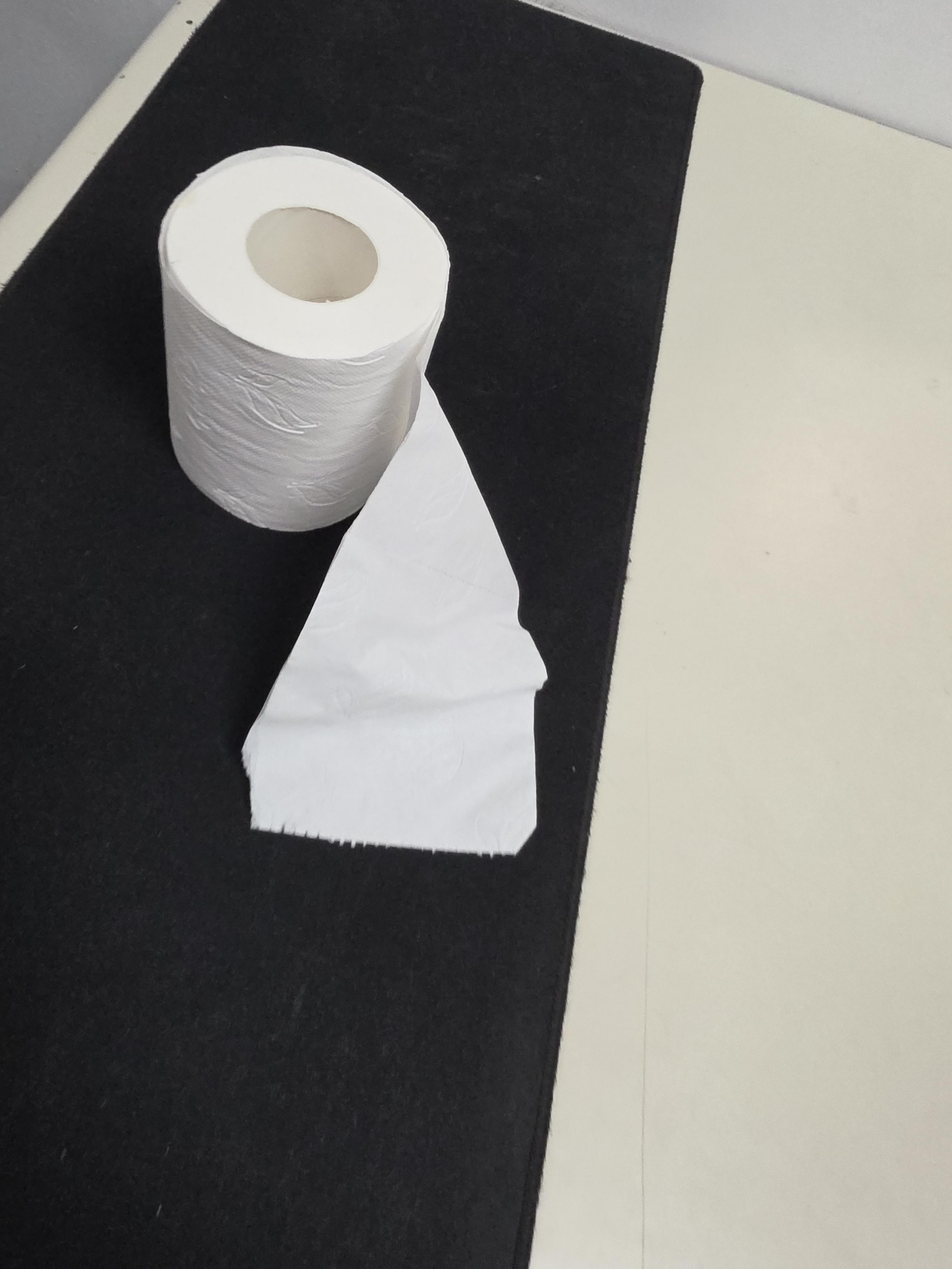tissue: (157, 145, 548, 857)
